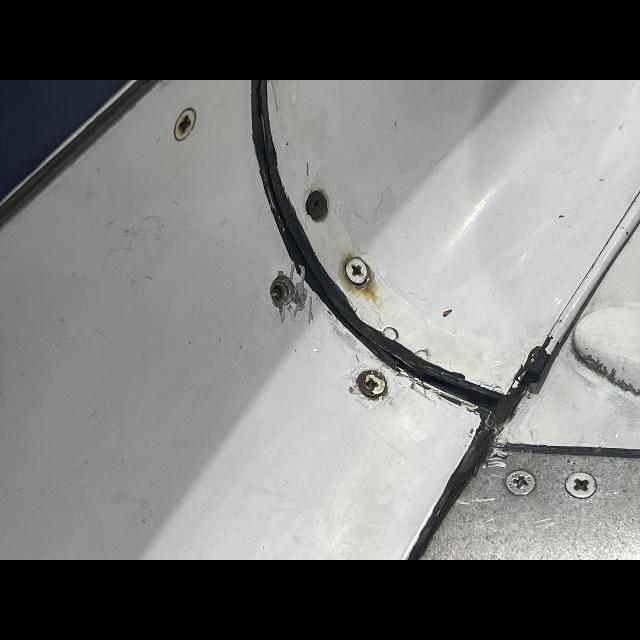Missing Fastener: (256, 268, 290, 306)
